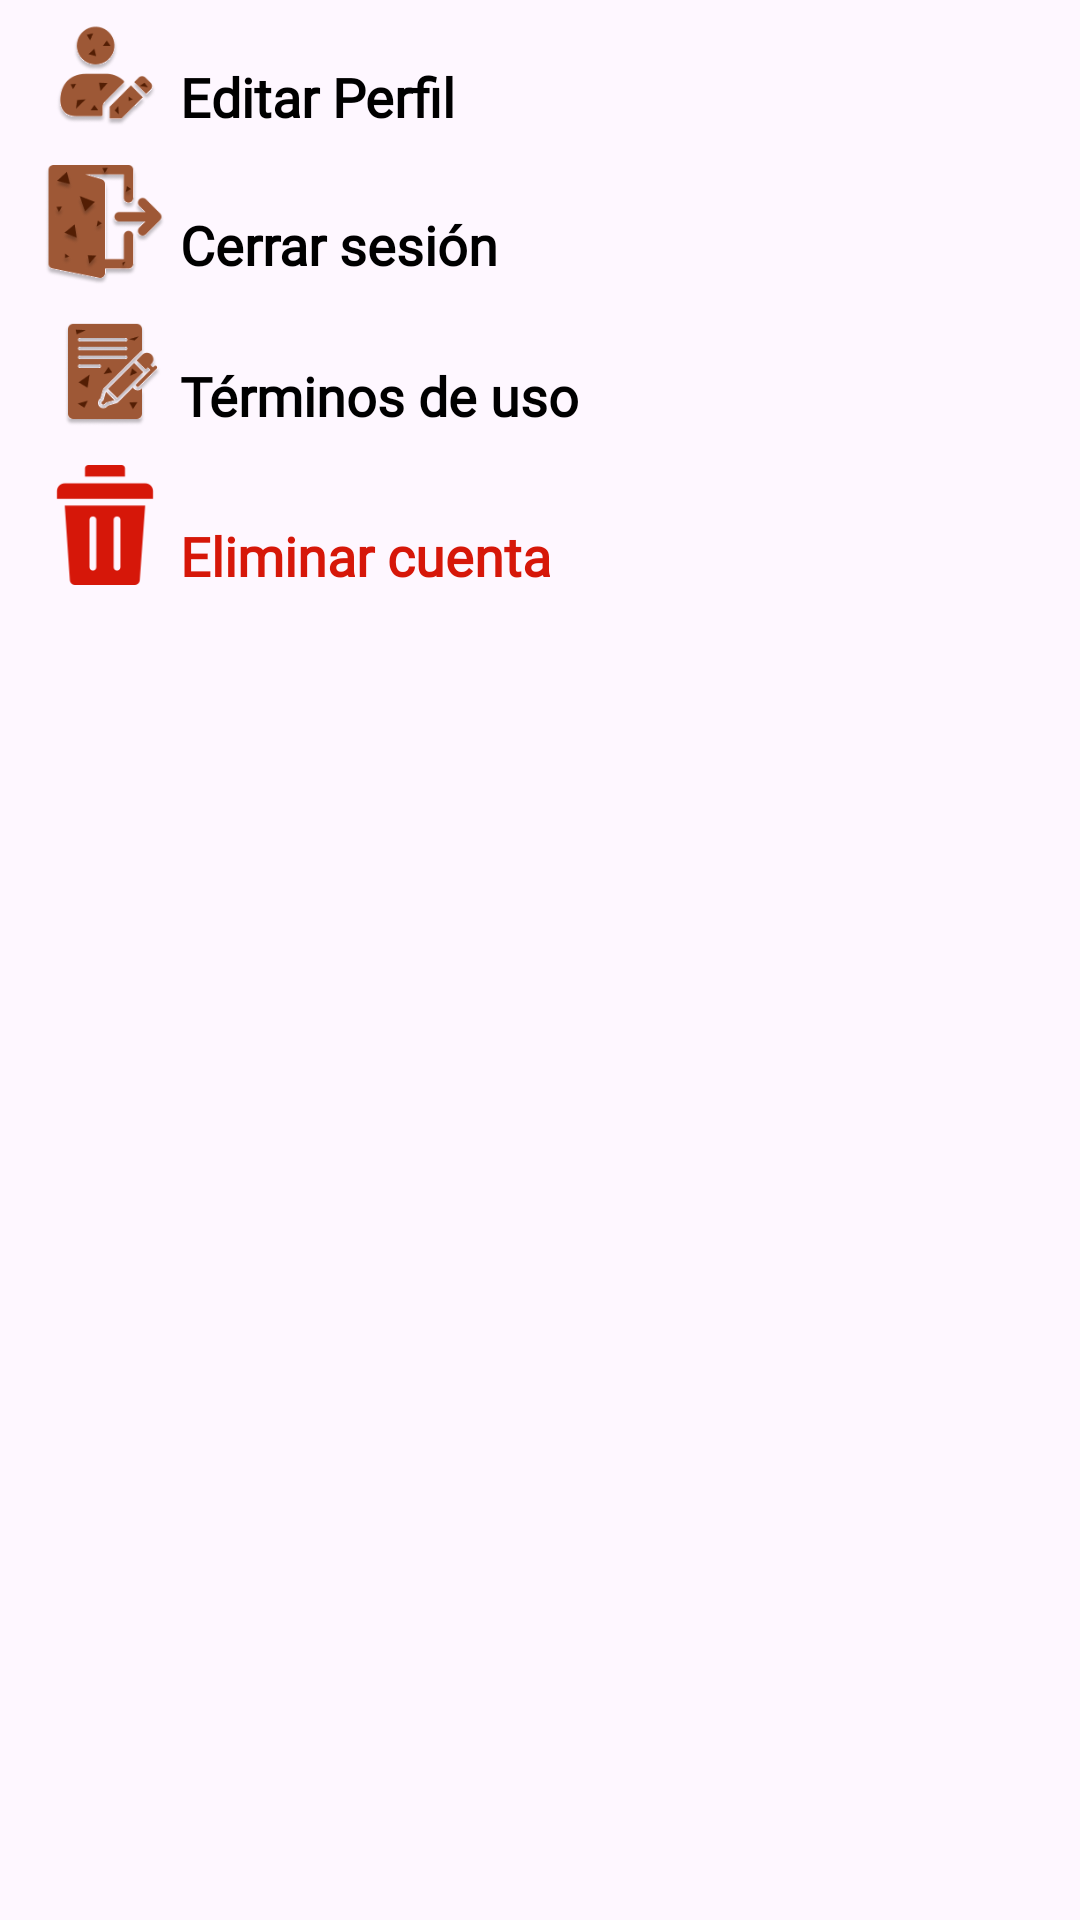

Where icons sit on this 1080 × 1920 app screen, as (x1, y1, x2, y2):
borrar pic: (56, 465, 154, 585)
cerrar pic: (48, 165, 162, 282)
terminos pic: (67, 323, 158, 423)
user pic: (60, 26, 153, 123)
